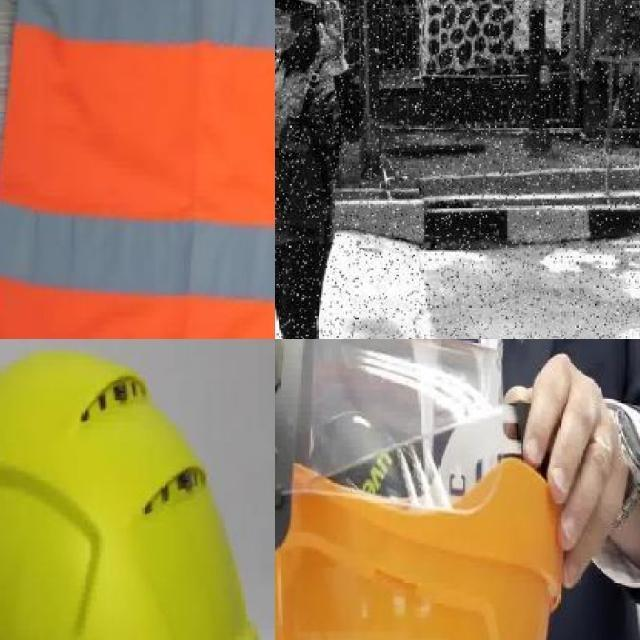apron: (314, 0, 352, 77)
